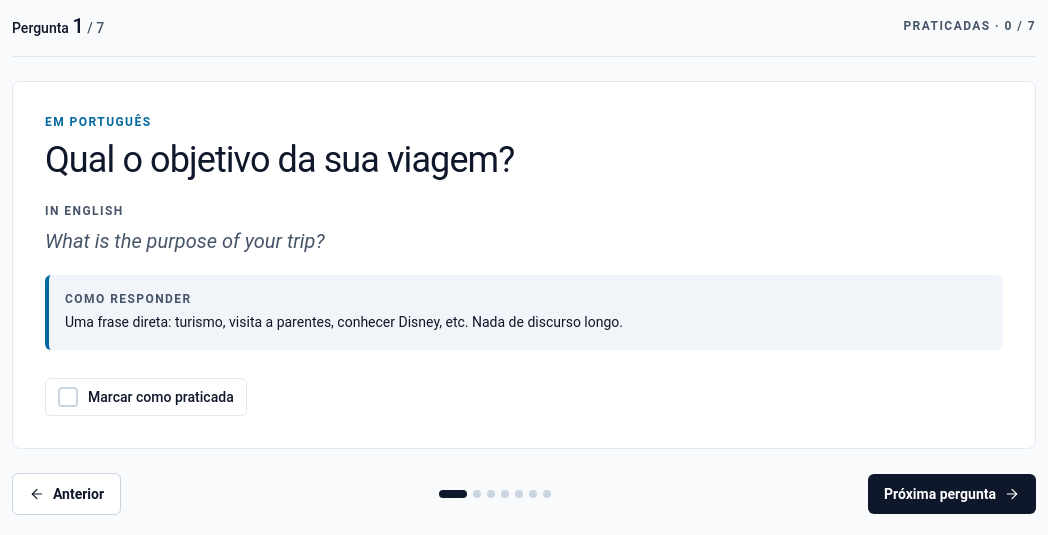
InterviewSimulator › advances to the next question
Click the button "Próxima pergunta": point(952, 494) [868,474,1036,514]
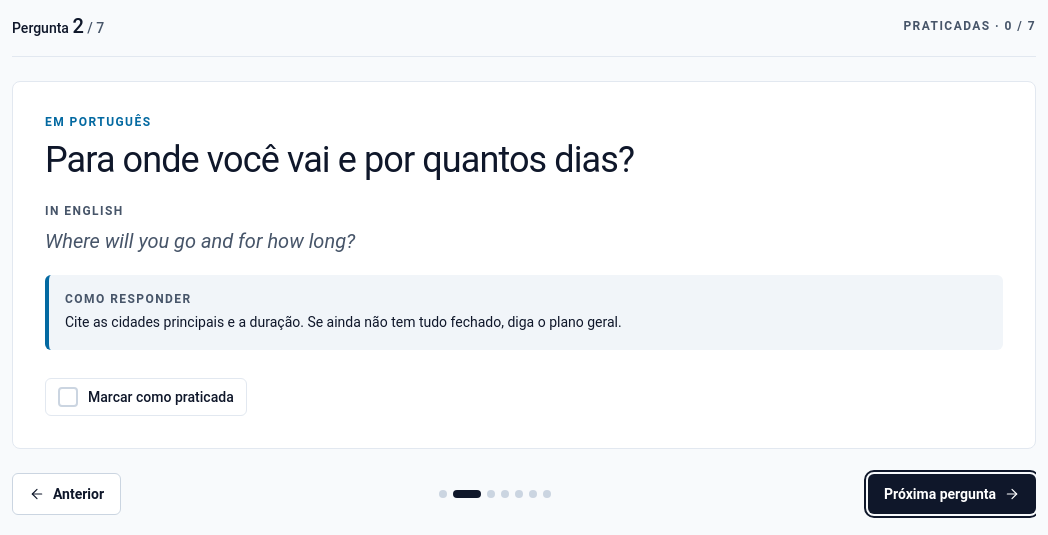
Check: the text "Para onde você vai e por quantos dias?" is shown, box [45,139,634,181]
